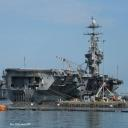Portanaves: (6, 16, 125, 105)
